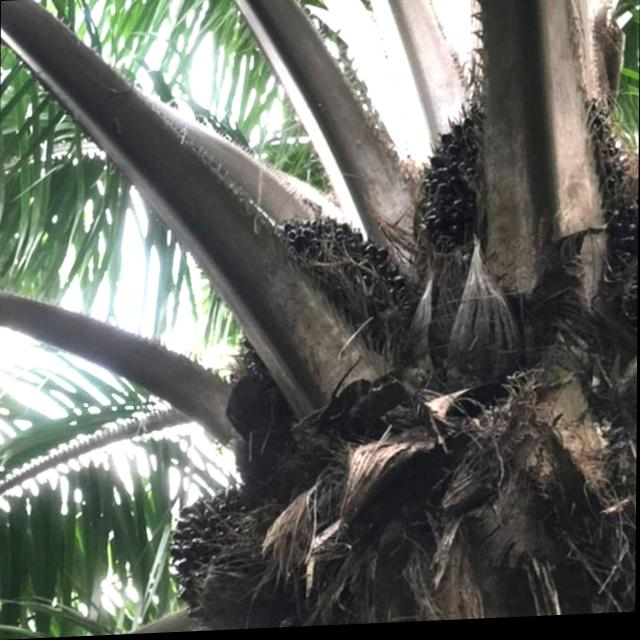almost: (232, 203, 419, 380)
